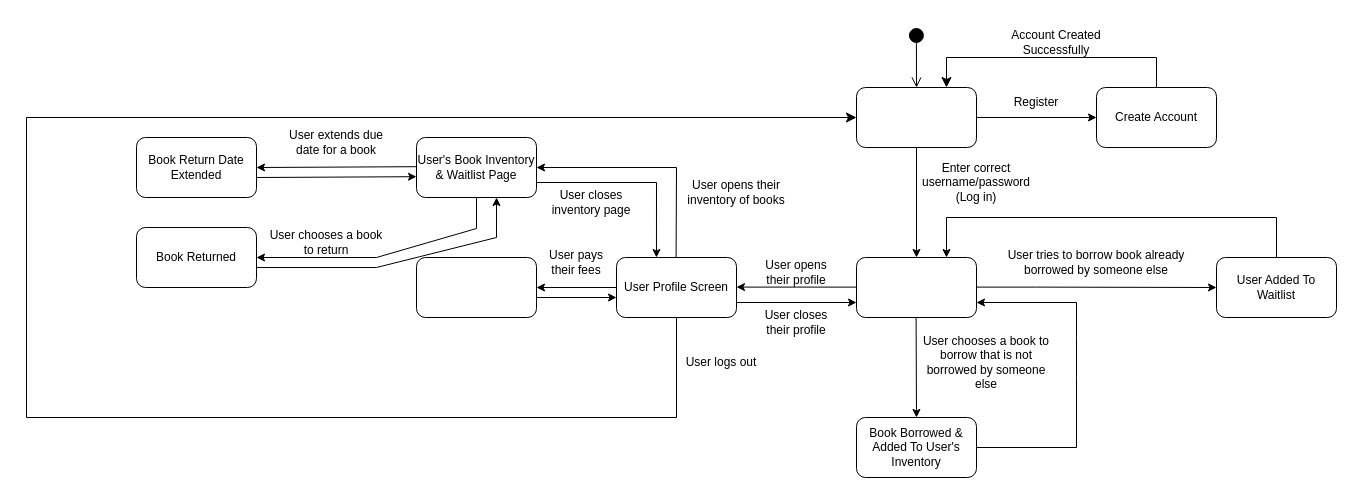
This 1354x495 diagram has some shape labels left out. Each missing label, with the box of its shape:
Fees Paid: (416, 256, 536, 318)
Idle/Login Page: (856, 86, 976, 148)
List of Available Books: (856, 256, 976, 318)
